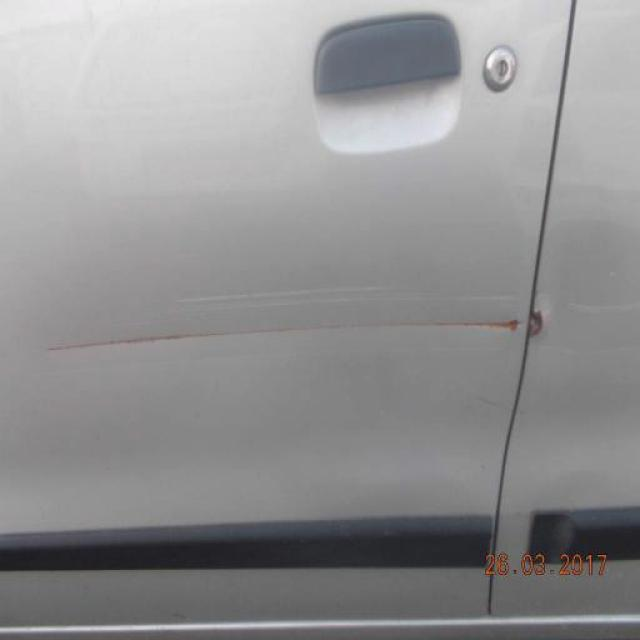Car-Damage: (43, 310, 521, 362), (524, 301, 547, 348)
